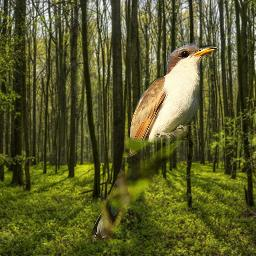Cuckoo: (86, 40, 222, 246)
